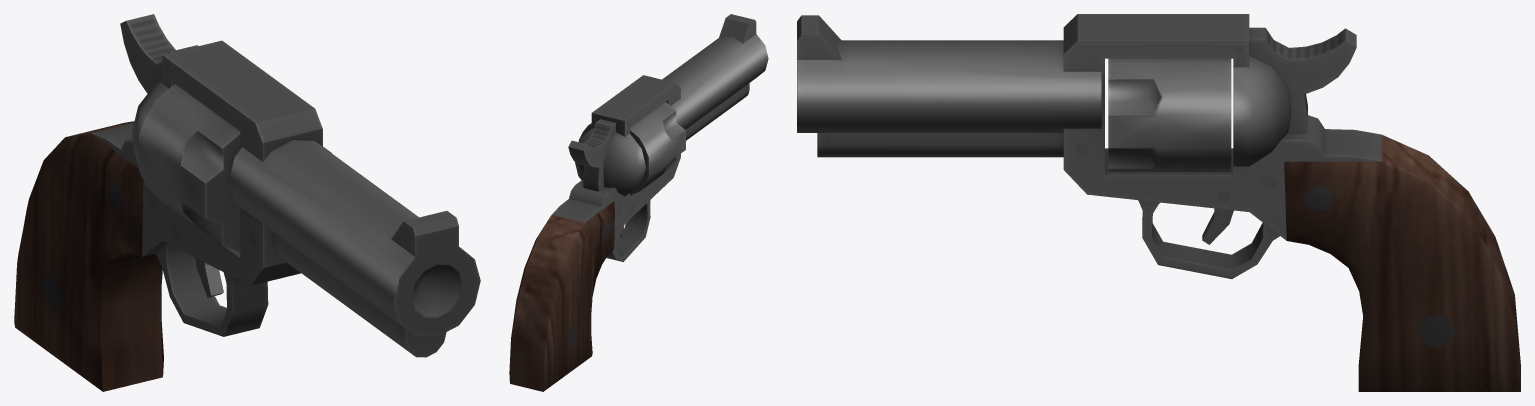
File: Weapon_revolver01.fbx
3 views of the same model, side by side, from view 1: azimuth 30°, elevation 25°; view 2: azimuth 150°, elevation 25°; view 3: azimuth 270°, elevation 25° (orthographic). The views are drawn at different scales.
Visible parts, largest first — view 1: Weapon_revolver01; view 2: Weapon_revolver01; view 3: Weapon_revolver01.
Boxes of the visible parts, x1,y1,x2,y2 form: Weapon_revolver01: [14, 14, 480, 391]; Weapon_revolver01: [509, 14, 768, 391]; Weapon_revolver01: [797, 14, 1520, 391].
Bounding box in the file's own units: 0.9859 × 2.85 × 5.29.
